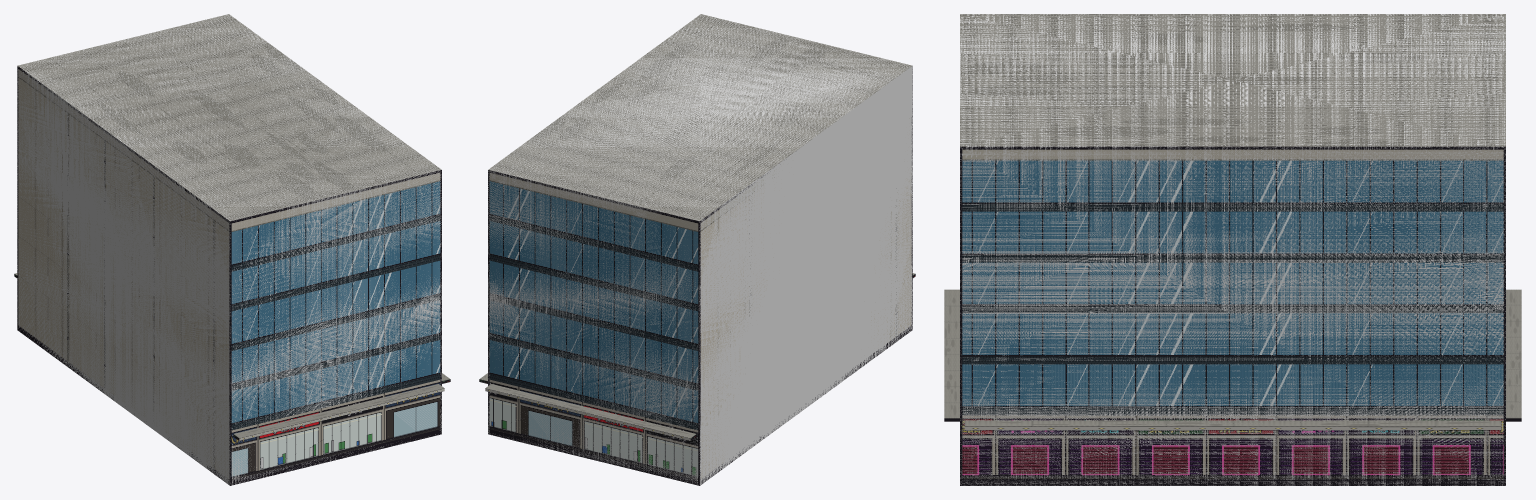
3 renders of one model, left to right at view 1: azimuth 30°, elevation 25°; view 2: azimuth 150°, elevation 25°; view 3: azimuth 270°, elevation 25°, orthographic. The views are drawn at different scales.
Parts seen in each view (by area): view 1: 19D-P04b, COL_19D-P04b_0; view 2: COL_19D-P04b_0, 19D-P04b; view 3: 19D-P04b, COL_19D-P04b_0.
Boxes of the visible parts, left/top/right/bottom form: 19D-P04b: left=14, top=14, right=450, bottom=485; COL_19D-P04b_0: left=17, top=14, right=441, bottom=485; COL_19D-P04b_0: left=488, top=15, right=912, bottom=485; 19D-P04b: left=479, top=14, right=915, bottom=485; 19D-P04b: left=944, top=14, right=1521, bottom=485; COL_19D-P04b_0: left=960, top=14, right=1505, bottom=485.
Size of the model in its own units: 21.1 by 24 by 37.
1 material, 1 textured.
